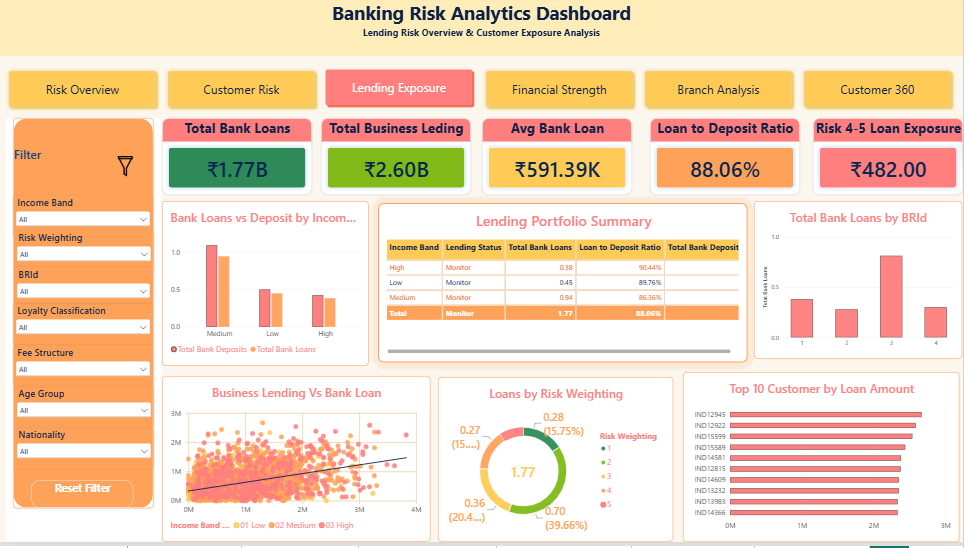

Layout of this report page (visuals, bound fields, positions):
{"tool":"powerbi","page":{"name":"Lending Exposure","canvas":[1920,1080],"ordinal":2},"visuals":[{"type":"shape","box":[0,0,1920,111.5],"z":0},{"type":"pageNavigator","box":[9.8,133.5,1894.9,88.4],"z":1000},{"type":"shape","box":[12,236,310,844],"z":2000},{"type":"shape","box":[26.8,235.4,280,778],"z":3000},{"type":"clusteredColumnChart","title":"Bank Loans vs Deposit by Income Band","fields":{"Category":["Banking.Income Band"],"Y":["Measure.Total Bank Deposits","Measure.Total Bank Loans"]},"box":[322,400,412,328],"z":4000},{"type":"donutChart","title":"Loans by Risk Weighting","fields":{"Category":["Banking.Risk Weighting"],"Y":["Measure.Total Bank Loans"]},"box":[873.3,751.5,468.6,328.3],"z":5000},{"type":"clusteredBarChart","title":"Top 10 Customer by Loan Amount","fields":{"Category":["Banking.Client ID"],"Y":["Sum(Banking.Bank Loans)"]},"box":[1362.6,741.2,551.2,338.6],"z":6000},{"type":"scatterChart","title":"Business Lending Vs Bank Loan ","fields":{"Series":["Banking.Income Band Ordered"],"X":["Banking.Business Lending"],"Y":["Banking.Bank Loans"]},"box":[322.1,749.4,534.7,330.3],"z":7000},{"type":"columnChart","fields":{"Category":["Banking.BRId"],"Y":["Measure.Total Bank Loans"]},"box":[1504,400,415,313.8],"z":8000},{"type":"cardVisual","title":"Total Bank Loans","fields":{"Data":["Measure.Total Bank Loans"]},"box":[322.1,235.4,299.4,152.8],"z":9000},{"type":"cardVisual","title":"Total Business Leding","fields":{"Data":["Measure.Total Business Lending"]},"box":[640,235.4,299.4,152.8],"z":10000},{"type":"cardVisual","title":"Avg Bank Loan","fields":{"Data":["Measure.Average Bank Loan"]},"box":[960,235.4,299.4,152.8],"z":11000},{"type":"cardVisual","title":"Loan to Deposit Ratio","fields":{"Data":["Measure.Loan to Deposit Ratio"]},"box":[1296.5,235.4,299.4,152.8],"z":12000},{"type":"cardVisual","title":"Risk 4-5 Loan Exposure","fields":{"Data":["Measure.Risk 4-5 Records"]},"box":[1620.6,235.4,299.4,152.8],"z":13000},{"type":"pivotTable","title":"Lending Portfolio Summary","fields":{"Rows":["Banking.Income Band"],"Values":["Measure.Lending Status","Measure.Total Bank Loans","Measure.Loan to Deposit Ratio","Measure.Total Bank Deposits"]},"box":[753.5,404.6,737,317.9],"z":14000},{"type":"slicer","fields":{"Values":["Banking.Income Band"]},"box":[26.8,388.1,278.7,82.6],"z":15000},{"type":"slicer","fields":{"Values":["Banking.Risk Weighting"]},"box":[28.9,458.3,278.7,82.6],"z":16000},{"type":"slicer","fields":{"Values":["Banking.Loyalty Classification"]},"box":[26.8,604.9,278.7,82.6],"z":17000},{"type":"slicer","fields":{"Values":["Banking.BRId"]},"box":[28.9,532.6,276.6,72.3],"z":18000},{"type":"slicer","fields":{"Values":["Banking.Fee Structure"]},"box":[26.8,687.5,278.7,82.6],"z":19000},{"type":"slicer","fields":{"Values":["Banking.Age Group"]},"box":[28.9,770.1,278.7,82.6],"z":20000},{"type":"actionButton","title":"Reset Filter","box":[61.9,957.9,204.4,55.7],"z":21000},{"type":"image","box":[210.6,311.7,76.4,41.3],"z":22000},{"type":"textbox","box":[0,0,1920,52.5],"z":23000},{"type":"textbox","box":[28.9,291.1,181.7,61.9],"z":24000},{"type":"textbox","box":[0,52.5,1920,57.5],"z":25000},{"type":"slicer","fields":{"Values":["Banking.Nationality"]},"box":[28.9,850.6,278.7,82.6],"z":26000}]}

Visuals, with their boxes in screenshot pixels (x1, y1, x2, y2), scaled from the page's 1920x1080 canvas onto the 964x548 screenshot:
shape: [0,0,963,57]
pageNavigator: [5,68,956,113]
shape: [6,120,162,547]
shape: [13,119,154,514]
"Bank Loans vs Deposit by Income Band" clusteredColumnChart: [162,203,369,369]
"Loans by Risk Weighting" donutChart: [438,381,674,547]
"Top 10 Customer by Loan Amount" clusteredBarChart: [684,376,961,547]
"Business Lending Vs Bank Loan " scatterChart: [162,380,430,547]
columnChart - Banking.BRId x Measure.Total Bank Loans: [755,203,963,362]
"Total Bank Loans" cardVisual: [162,119,312,197]
"Total Business Leding" cardVisual: [321,119,472,197]
"Avg Bank Loan" cardVisual: [482,119,632,197]
"Loan to Deposit Ratio" cardVisual: [651,119,801,197]
"Risk 4-5 Loan Exposure" cardVisual: [814,119,963,197]
"Lending Portfolio Summary" pivotTable: [378,205,748,367]
slicer - Banking.Income Band: [13,197,153,239]
slicer - Banking.Risk Weighting: [15,233,154,274]
slicer - Banking.Loyalty Classification: [13,307,153,349]
slicer - Banking.BRId: [15,270,153,307]
slicer - Banking.Fee Structure: [13,349,153,391]
slicer - Banking.Age Group: [15,391,154,433]
"Reset Filter" actionButton: [31,486,134,514]
image: [106,158,144,179]
textbox: [0,0,963,27]
textbox: [15,148,106,179]
textbox: [0,27,963,56]
slicer - Banking.Nationality: [15,432,154,474]
